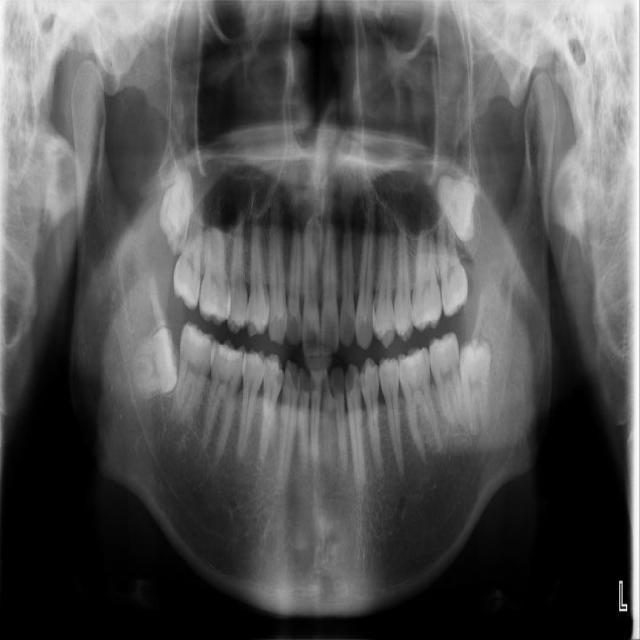3M ESPE Implant: (156, 167, 195, 256)
52: (207, 338, 248, 394)
73: (590, 554, 592, 582)
BioHorizons Implant: (432, 190, 471, 319)
BioLife Implant: (435, 176, 477, 243)
Biomet 3i Implant: (458, 337, 492, 436)
Blue Sky Bio Implant: (425, 329, 470, 430)
Caries: (171, 186, 206, 312)
Implant: (170, 320, 219, 430)
Keystone Dental Implant: (131, 325, 181, 401)
